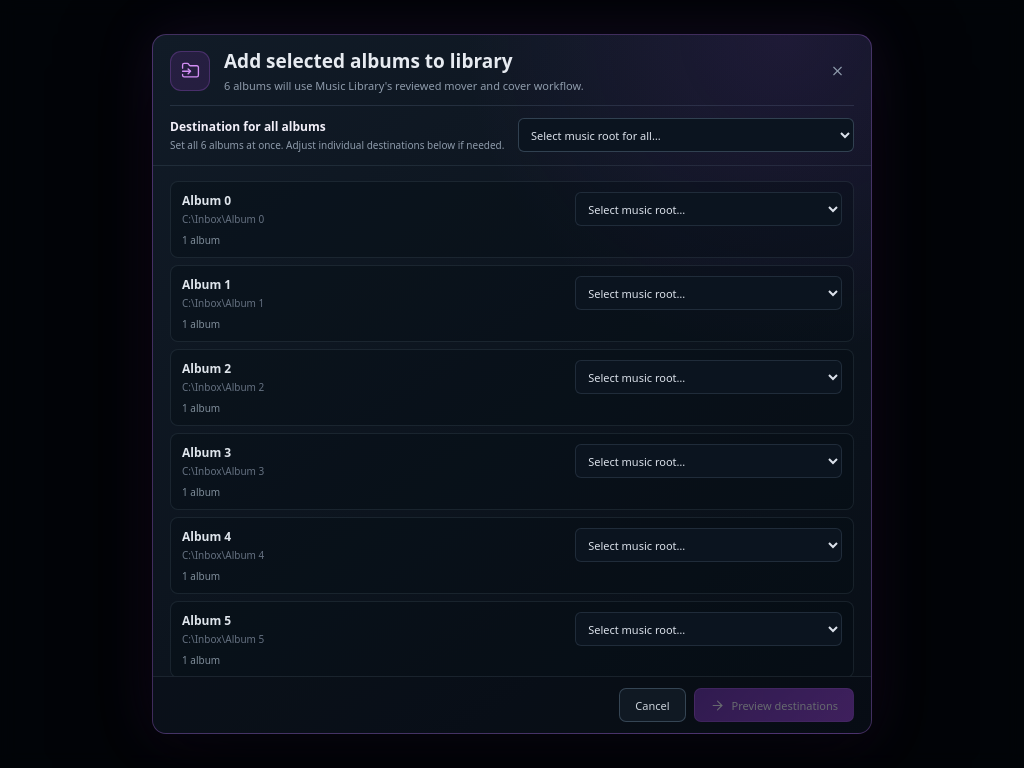
Test case: explains identical MP3s and different incoming files before replacement confirmation
This screenshot has width=1024, height=768.
Step 1. Select "General music" in the dropdown labelled "Destination for all albums" → (686, 135), box [518, 118, 854, 152]
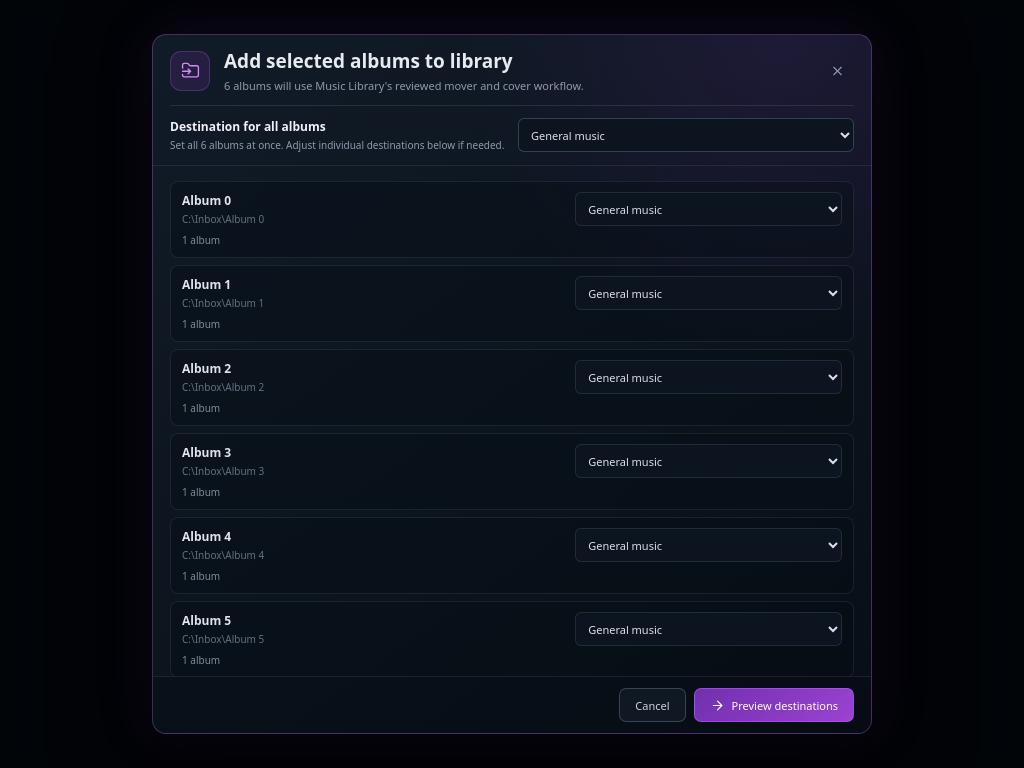
Step 2. Select "Synthwave" in the dropdown named "Library destination for Album 5" → (709, 629), box [575, 612, 842, 646]
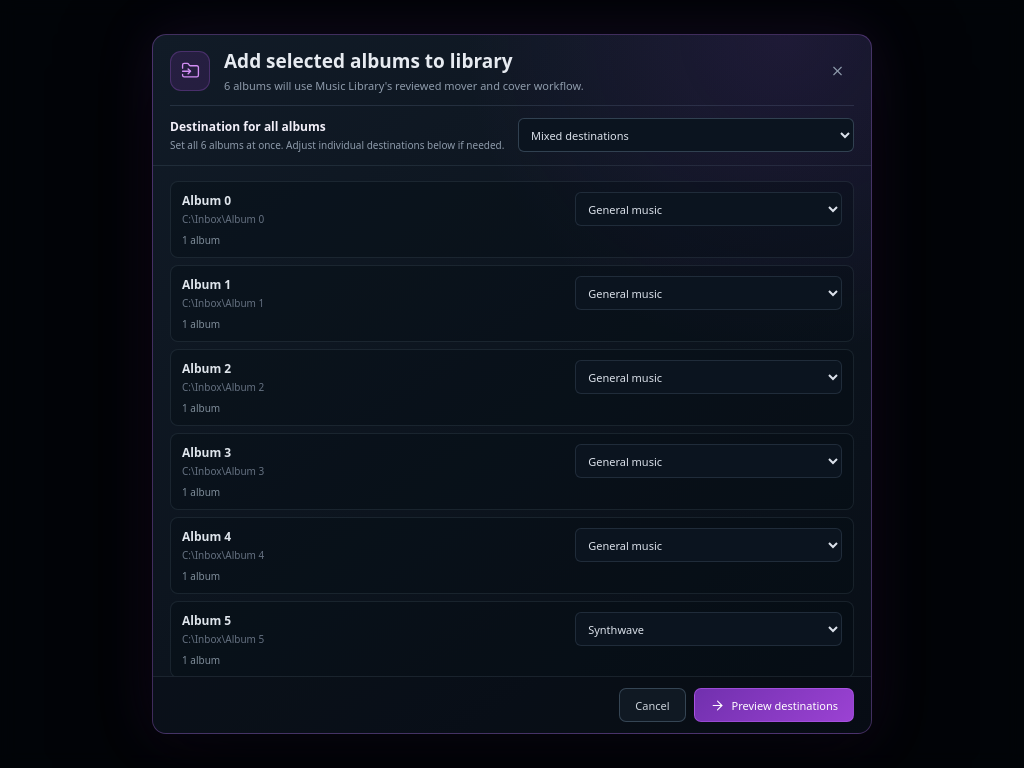
Step 3. Click the button "Preview destinations" → (774, 705), box [694, 688, 854, 722]
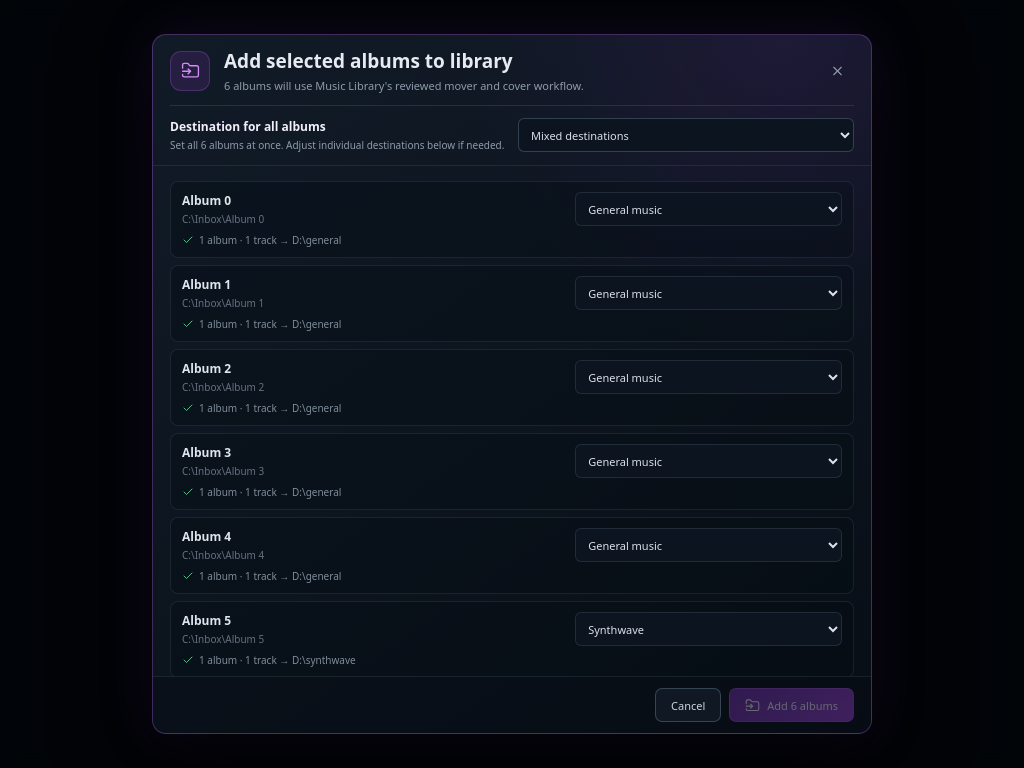
Expected: the button "Add 6 albums" is disabled, [729, 688, 854, 722]
